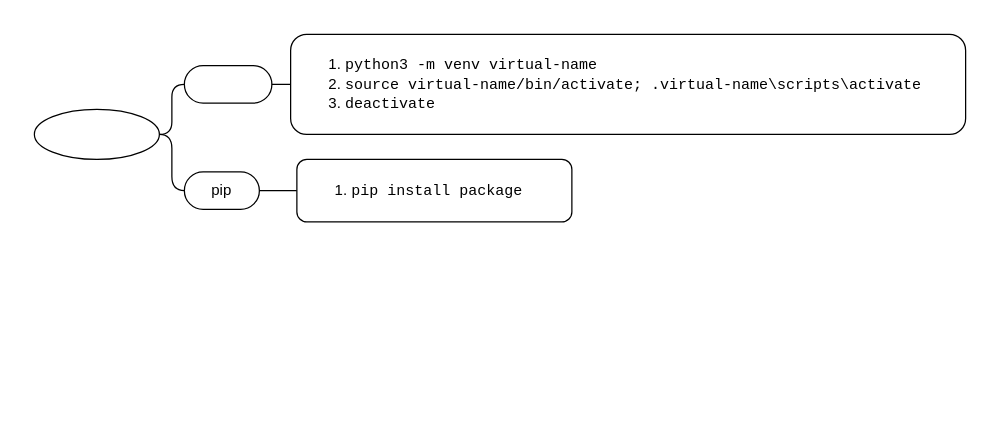
Image size: 1005x430. Some labels were removed from this diagram. Here are the shapes that lost their labels. From the top down, the centre of each, then its label:
At [227,83]: "virtual".
At [96,133]: "environment".
